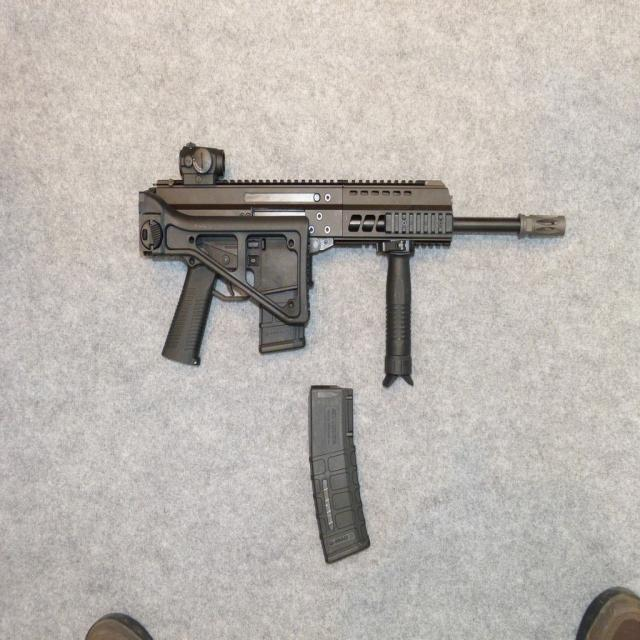firearm: (142, 142, 567, 368)
